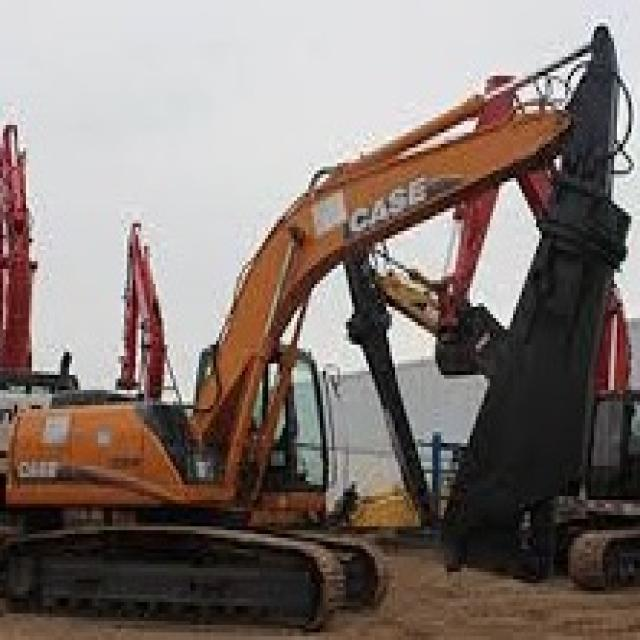excavator: (11, 299, 424, 640)
